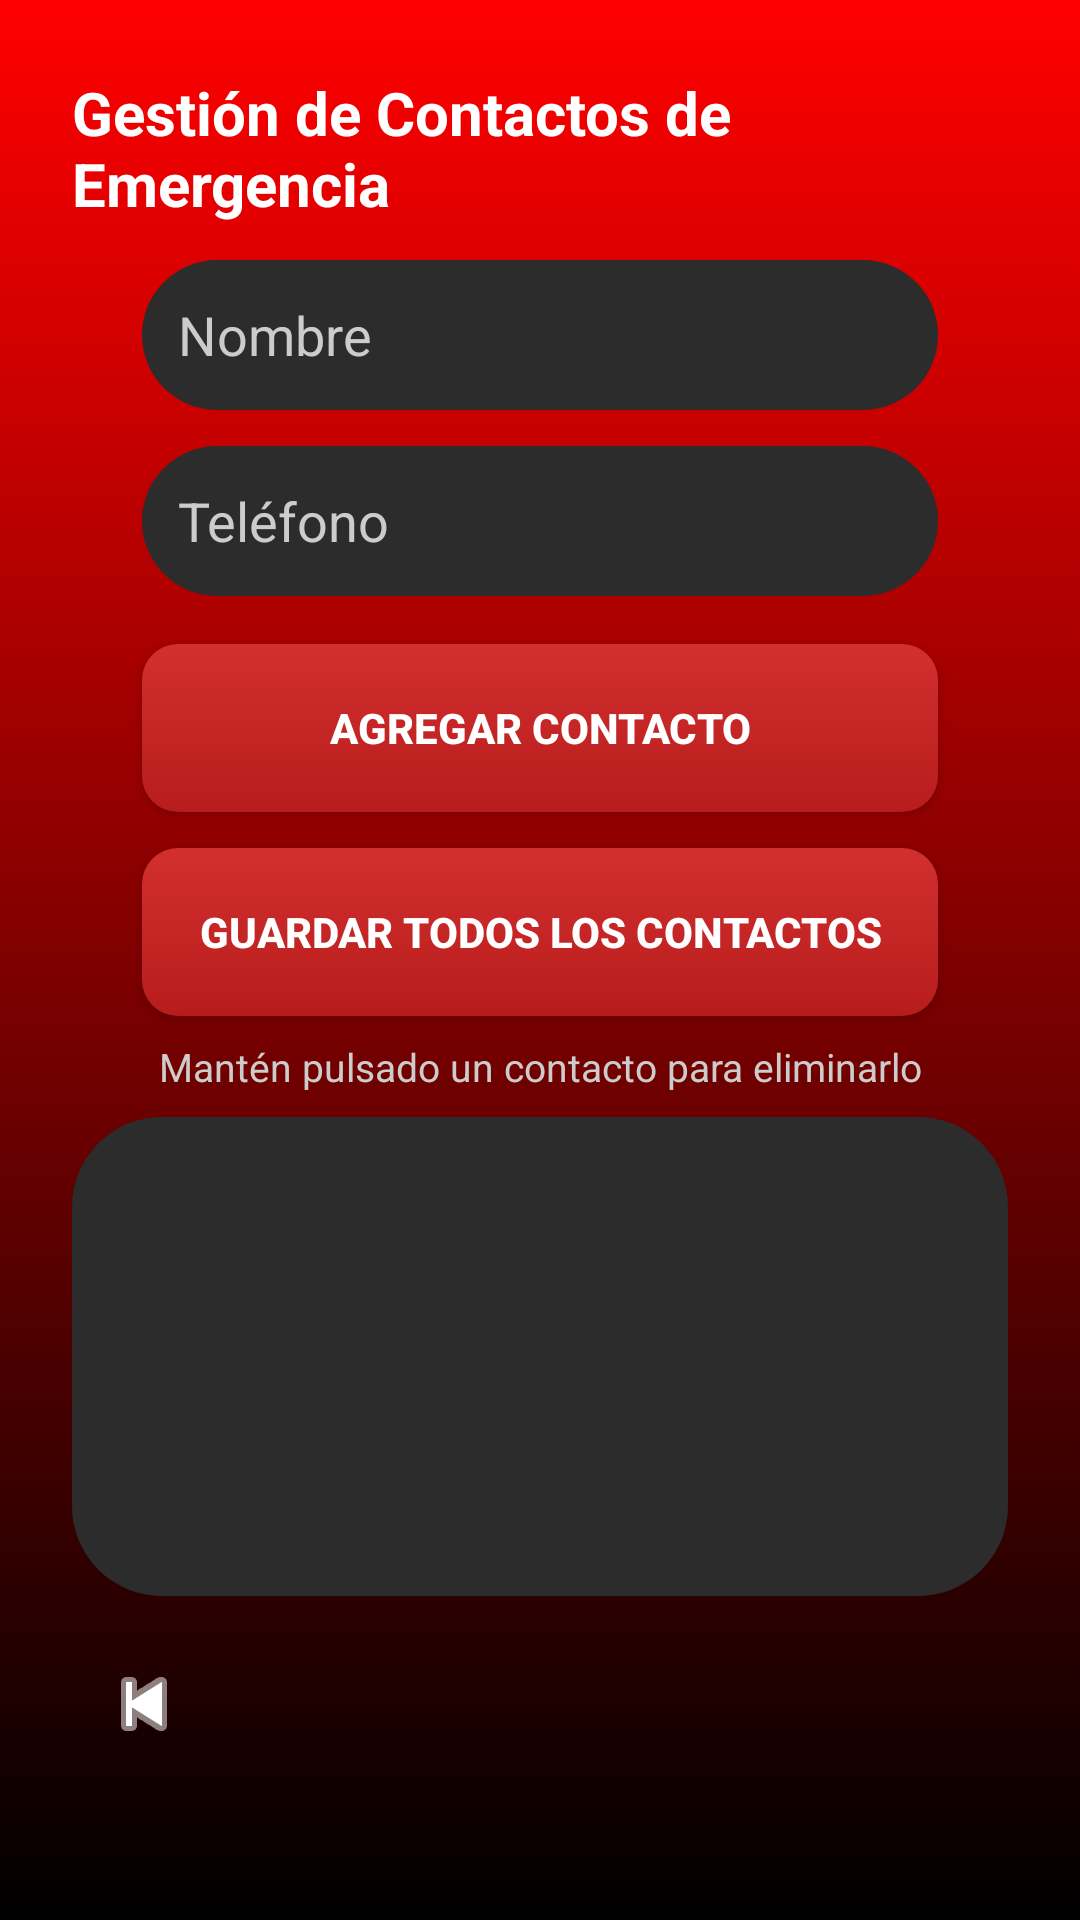

Point at icon controls on the screen. Image size 1080 × 1920, points as point (x, y).
previous: point (144, 1704)
